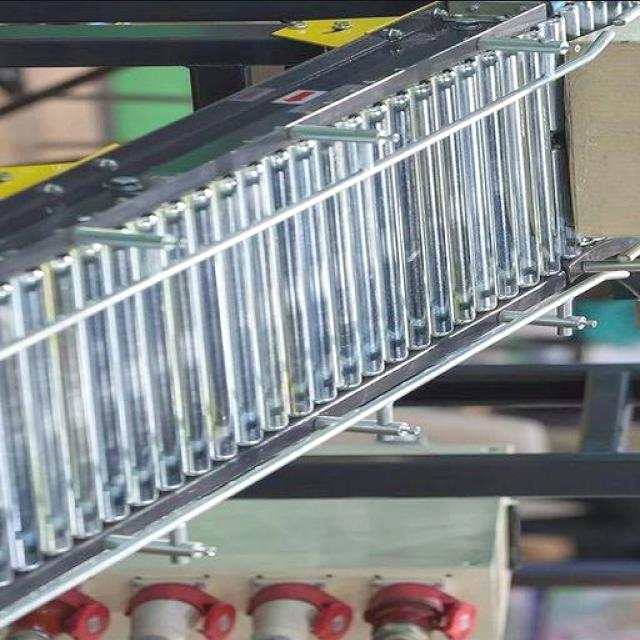conveyor: (0, 0, 640, 627)
